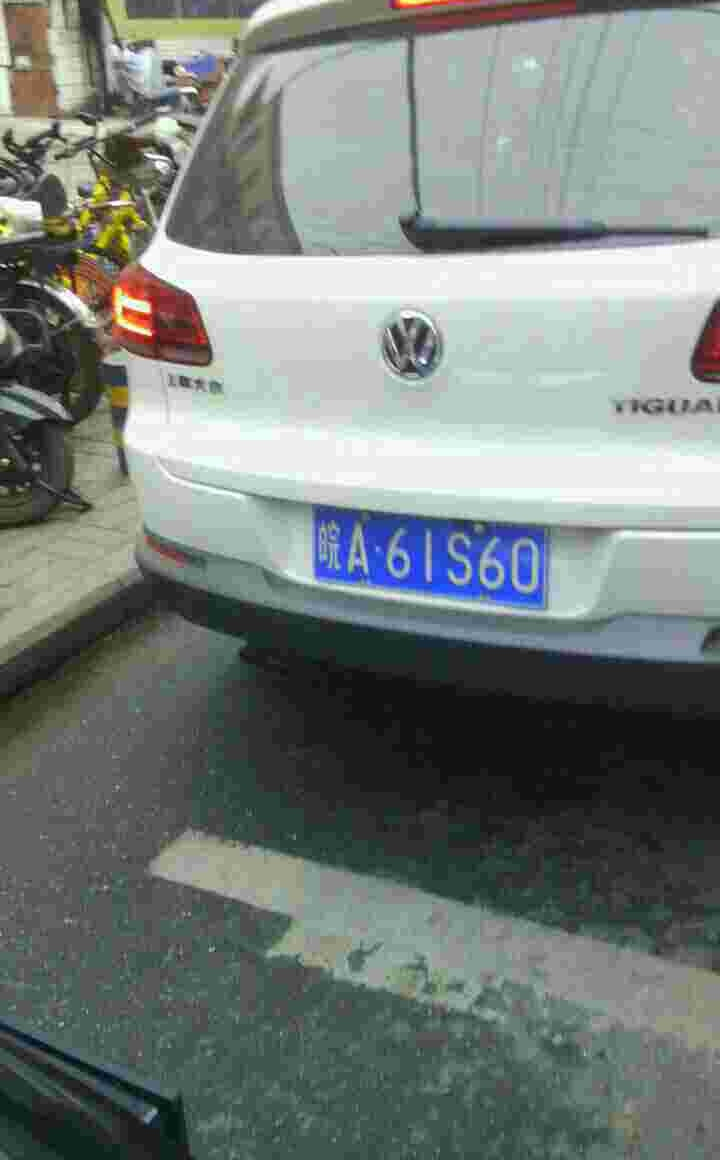license_plate: (298, 513, 548, 590)
